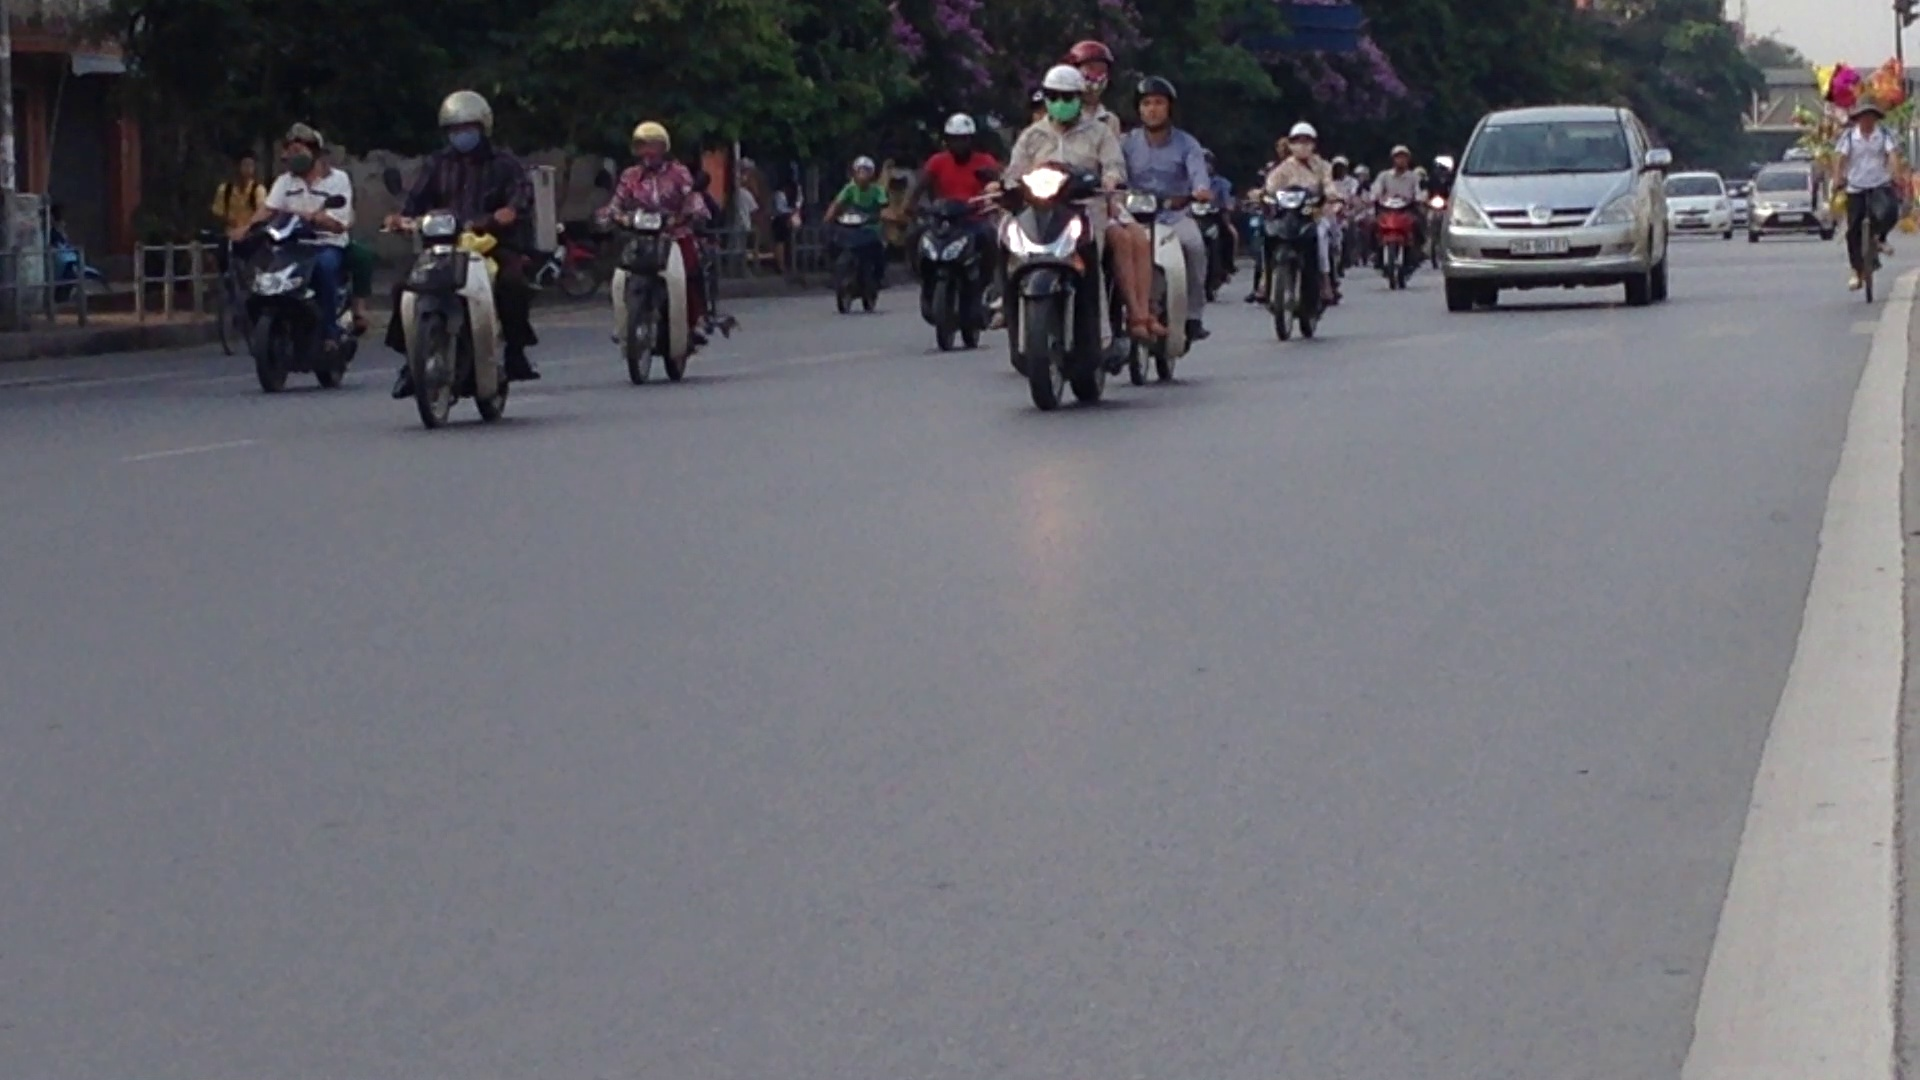vehicle-plate: (1504, 231, 1572, 259)
